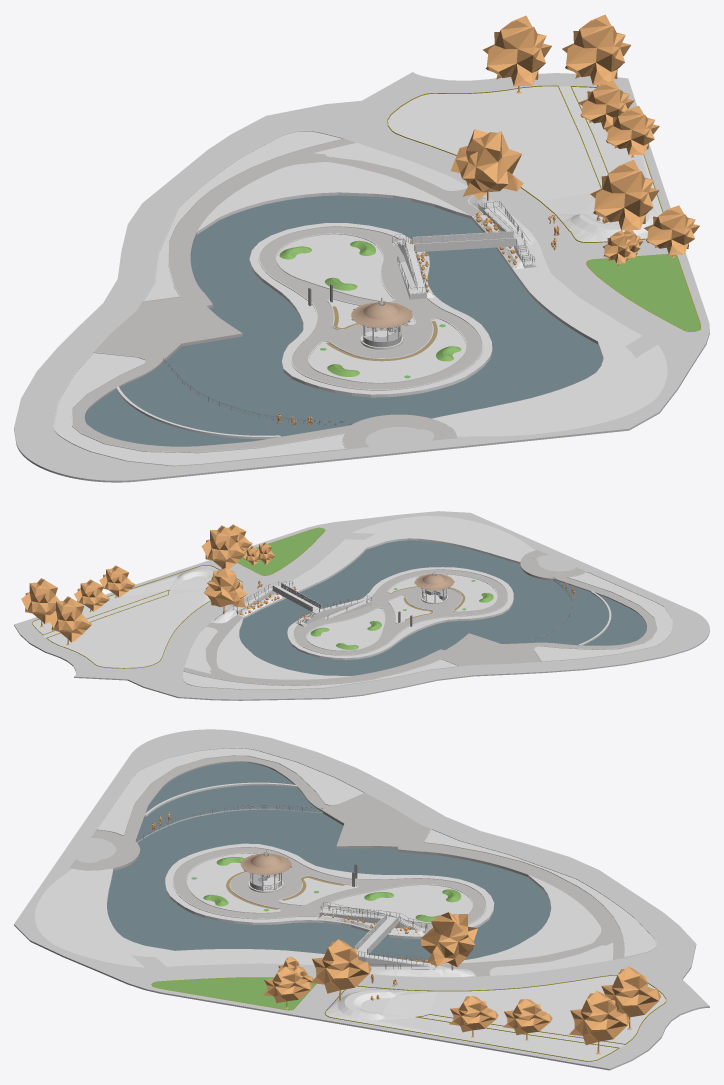
The model's file is parque_guayaquil.glb.
3 views of the same model, one above another, from view 1: azimuth 30°, elevation 25°; view 2: azimuth 150°, elevation 25°; view 3: azimuth 270°, elevation 25° (orthographic). The views are drawn at different scales.
Bounding box in the file's own units: 146 × 13.91 × 126.
